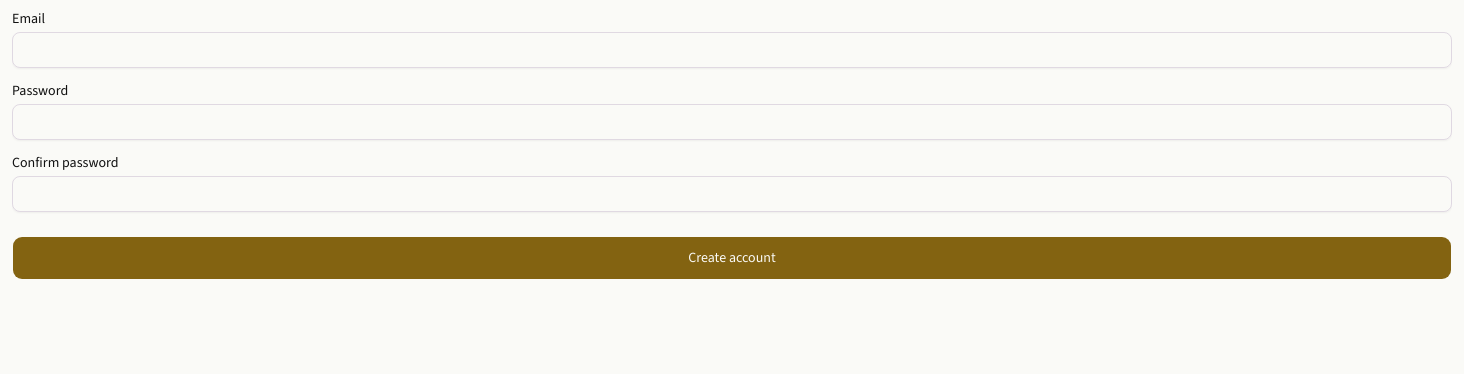
Scenario: SignUpForm › rejects a bad email, short password and mismatched confirm
In the field labelled "Email": (732, 50) left=12, top=32, right=1452, bottom=68, type "nope"
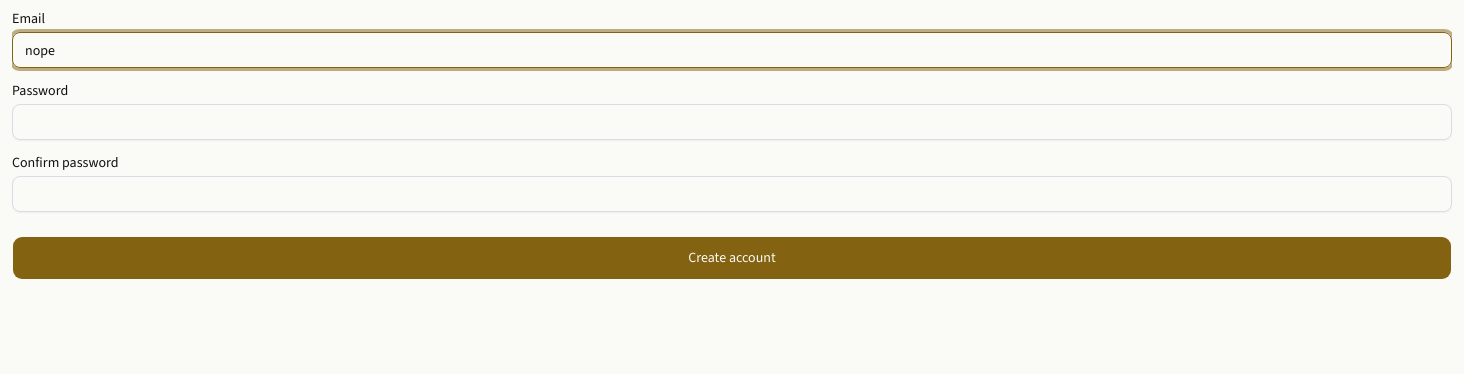
In the password field labelled "Password": (732, 122) left=12, top=104, right=1452, bottom=140, type "short"
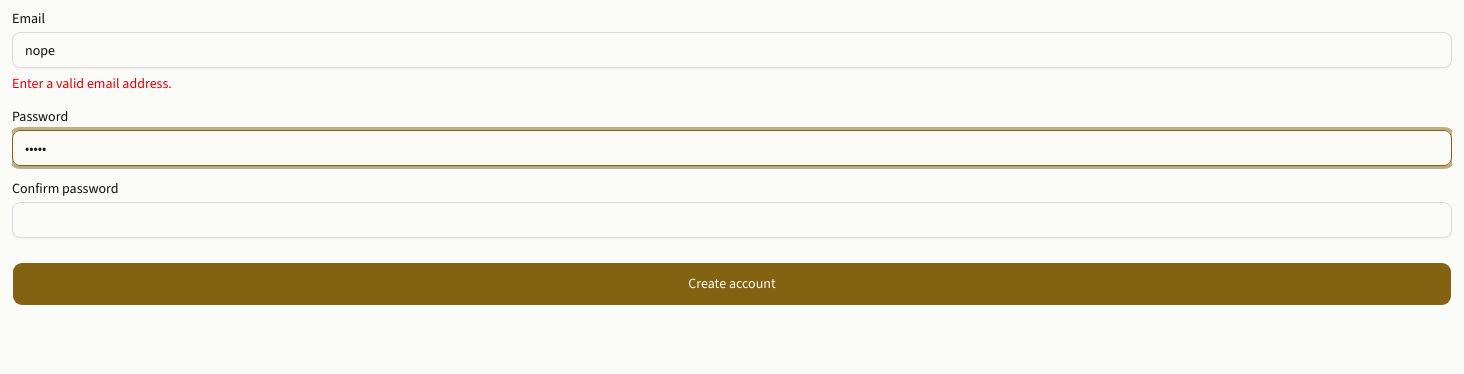
In the password field labelled "Confirm password": (732, 220) left=12, top=202, right=1452, bottom=238, type "shorter"
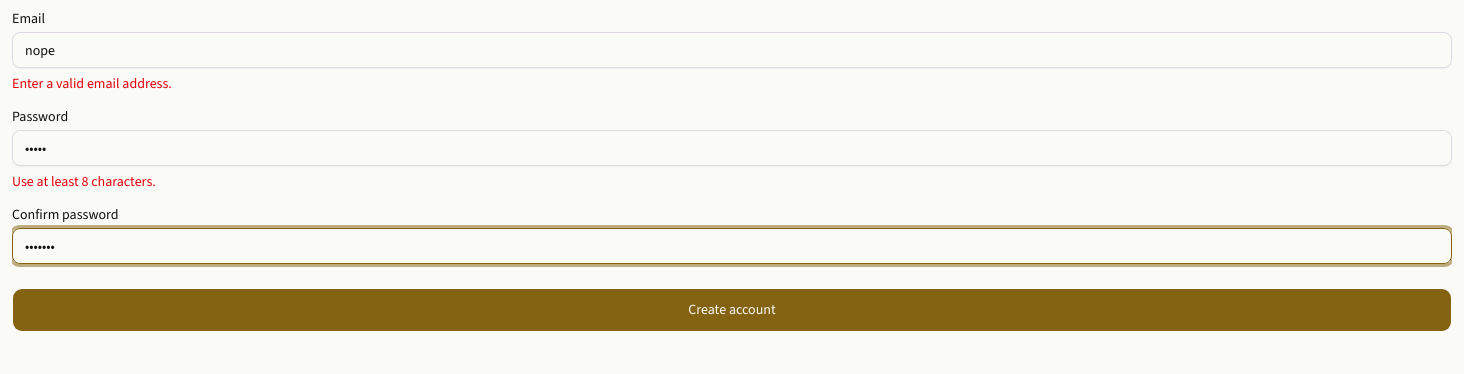
Click the button "Create account": (732, 310) left=12, top=288, right=1452, bottom=332
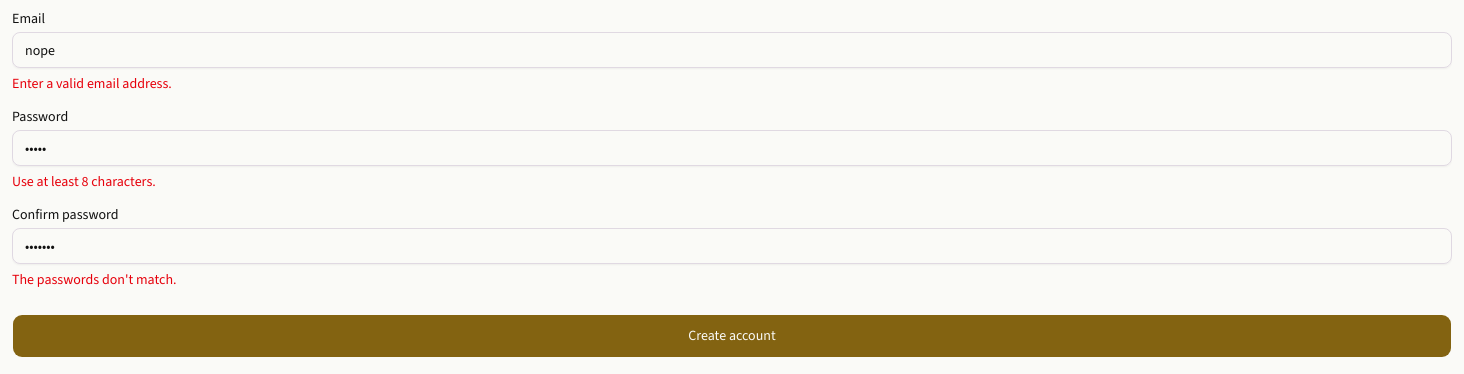
Result: the text "Enter a valid email address." is shown at left=12, top=74, right=172, bottom=93
Result: the text "Use at least 8 characters." is shown at left=12, top=172, right=156, bottom=191
Result: the text "The passwords don't match." is shown at left=12, top=270, right=176, bottom=289
